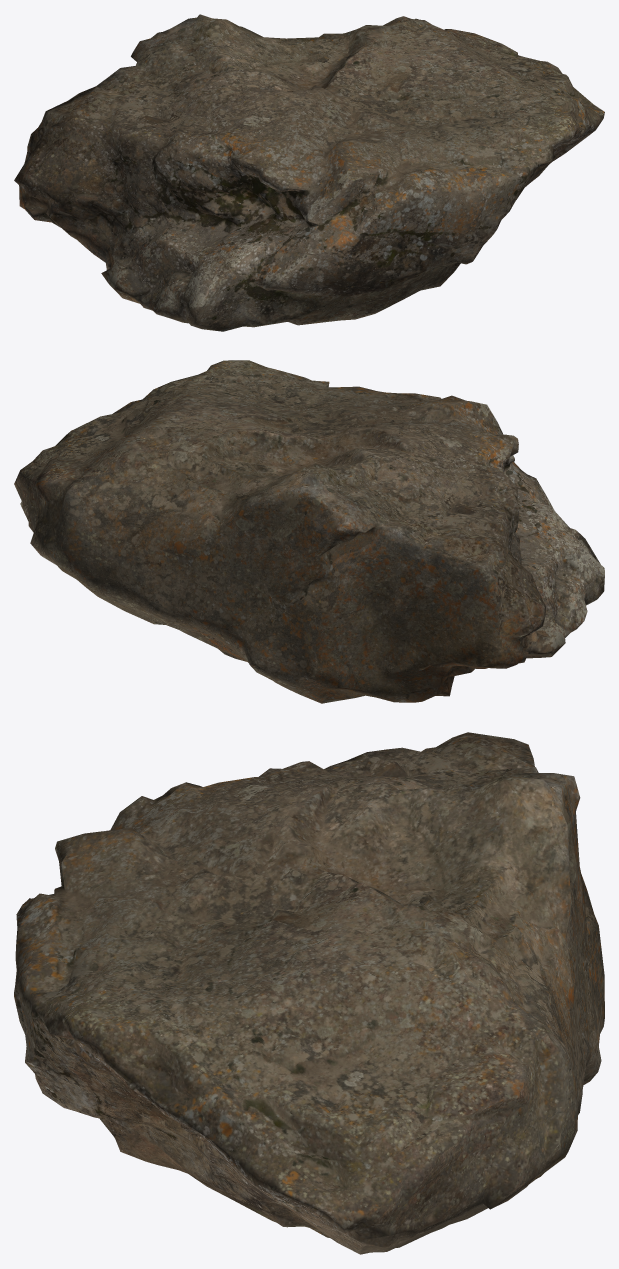
The model's file is SM_wg1hchg_tier_2.gltf.
3 views of the same model, one above another, from view 1: azimuth 30°, elevation 25°; view 2: azimuth 150°, elevation 25°; view 3: azimuth 270°, elevation 25° (orthographic). The views are drawn at different scales.
Visible parts, largest first — view 1: wg1hchg_LOD2_TIER2_000; view 2: wg1hchg_LOD2_TIER2_000; view 3: wg1hchg_LOD2_TIER2_000.
Part boxes in pixels (<box>): wg1hchg_LOD2_TIER2_000: <box>14,14,604,331</box>; wg1hchg_LOD2_TIER2_000: <box>14,360,604,703</box>; wg1hchg_LOD2_TIER2_000: <box>14,732,604,1254</box>.
Size of the model in its own units: 3.23 by 1.29 by 2.03.
1 material, 1 textured.
